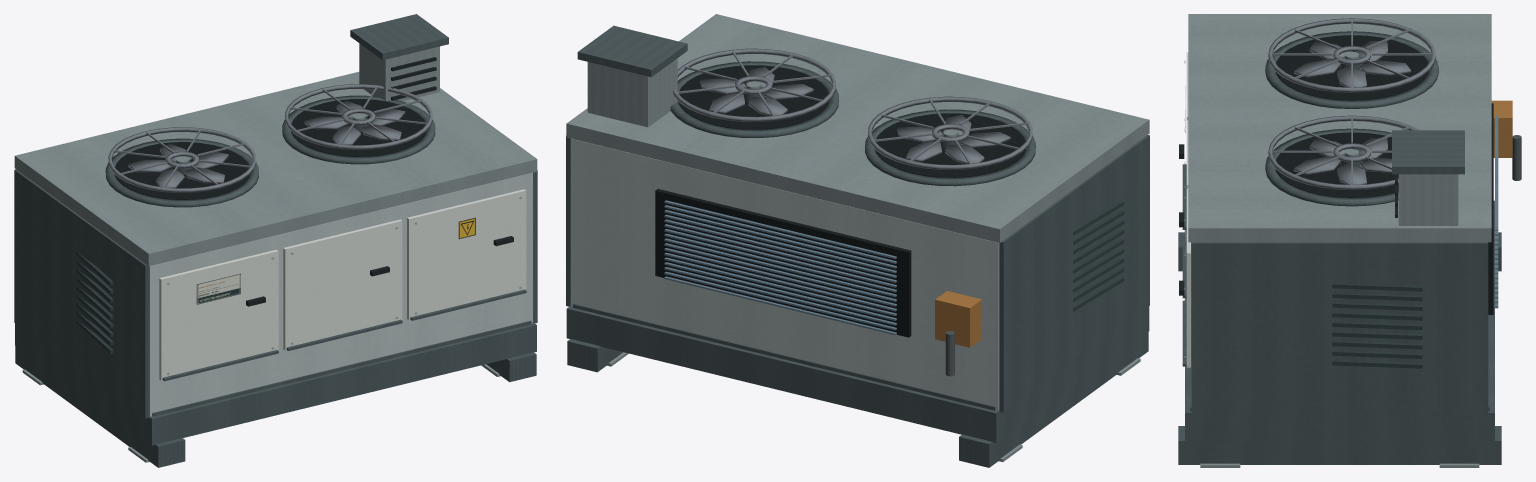
Rendered from PZ_Rooftop_HVAC_Unit.glb.
3 views of the same model, side by side, from view 1: azimuth 30°, elevation 25°; view 2: azimuth 150°, elevation 25°; view 3: azimuth 270°, elevation 25° (orthographic). The views are drawn at different scales.
Parts seen in each view (by area): view 1: RTU_TopRecessed_Panel, RTU_MainCabinet, RTU_Left_CornerTrim, RTU_Underbase_Pan, RTU_ServiceDoor_2, RTU_ServiceDoor_3, RTU_ServiceDoor_1, RTU_Left_Skid, RTU_Fan_B_BlackWell, RTU_Fan_A_BlackWell, RTU_ExhaustRainhood, RTU_ExhaustStack (+11 smaller); view 2: RTU_MainCabinet, RTU_TopRecessed_Panel, RTU_Left_CornerTrim, RTU_Underbase_Pan, RTU_Back_CoilBlack, RTU_ExhaustStack, RTU_Left_Skid, RTU_Fan_B_BlackWell, RTU_Fan_A_BlackWell, RTU_ExhaustRainhood, RTU_Fan_A_LowerLip, RTU_Fan_B_LowerLip (+23 smaller); view 3: RTU_Right_CornerTrim, RTU_TopRecessed_Panel, RTU_Underbase_Pan, RTU_Right_Skid, RTU_Fan_A_BlackWell, RTU_ExhaustRainhood, RTU_ExhaustStack, RTU_Fan_B_BlackWell, RTU_Fan_A_LowerLip, RTU_Fan_A_GuardOuter, RTU_Fan_B_LowerLip, RTU_Fan_B_GuardOuter (+24 smaller).
Part boxes in pixels (x1,y1,x2,y2): RTU_TopRecessed_Panel: (14, 72, 537, 266); RTU_MainCabinet: (149, 172, 533, 416); RTU_Left_CornerTrim: (14, 169, 149, 418); RTU_Underbase_Pan: (15, 323, 536, 445); RTU_ServiceDoor_2: (283, 219, 402, 350); RTU_ServiceDoor_3: (407, 189, 526, 320); RTU_ServiceDoor_1: (159, 249, 278, 380); RTU_Left_Skid: (15, 346, 185, 467); RTU_Fan_B_BlackWell: (291, 99, 426, 156); RTU_Fan_A_BlackWell: (114, 142, 250, 199); RTU_ExhaustRainhood: (350, 14, 448, 60); RTU_ExhaustStack: (359, 43, 439, 101); RTU_MainCabinet: (571, 138, 999, 410); RTU_TopRecessed_Panel: (566, 14, 1149, 242); RTU_Left_CornerTrim: (999, 135, 1149, 412); RTU_Underbase_Pan: (566, 306, 1149, 442); RTU_Back_CoilBlack: (655, 189, 911, 337); RTU_ExhaustStack: (587, 58, 677, 127); RTU_Left_Skid: (959, 332, 1148, 467); RTU_Fan_B_BlackWell: (678, 65, 829, 129); RTU_Fan_A_BlackWell: (874, 113, 1025, 177); RTU_ExhaustRainhood: (577, 25, 687, 77); RTU_Fan_A_LowerLip: (865, 109, 1035, 186); RTU_Fan_B_LowerLip: (670, 61, 838, 137); RTU_Right_CornerTrim: (1191, 242, 1488, 415); RTU_TopRecessed_Panel: (1188, 14, 1491, 242); RTU_Underbase_Pan: (1185, 200, 1494, 443); RTU_Right_Skid: (1178, 426, 1501, 464); RTU_Fan_A_BlackWell: (1275, 35, 1428, 100); RTU_ExhaustRainhood: (1392, 130, 1464, 174); RTU_ExhaustStack: (1398, 174, 1458, 225); RTU_Fan_B_BlackWell: (1275, 132, 1398, 197); RTU_Fan_A_LowerLip: (1265, 31, 1438, 108); RTU_Fan_A_GuardOuter: (1268, 18, 1435, 92); RTU_Fan_B_LowerLip: (1265, 128, 1398, 206); RTU_Fan_B_GuardOuter: (1268, 115, 1418, 190).
Bounding box in the file's own units: 2.38 × 1.51 × 1.55.
1 material, 1 textured.
